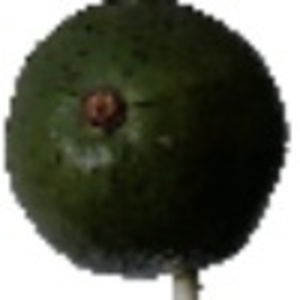abacate: (4, 1, 295, 298)
